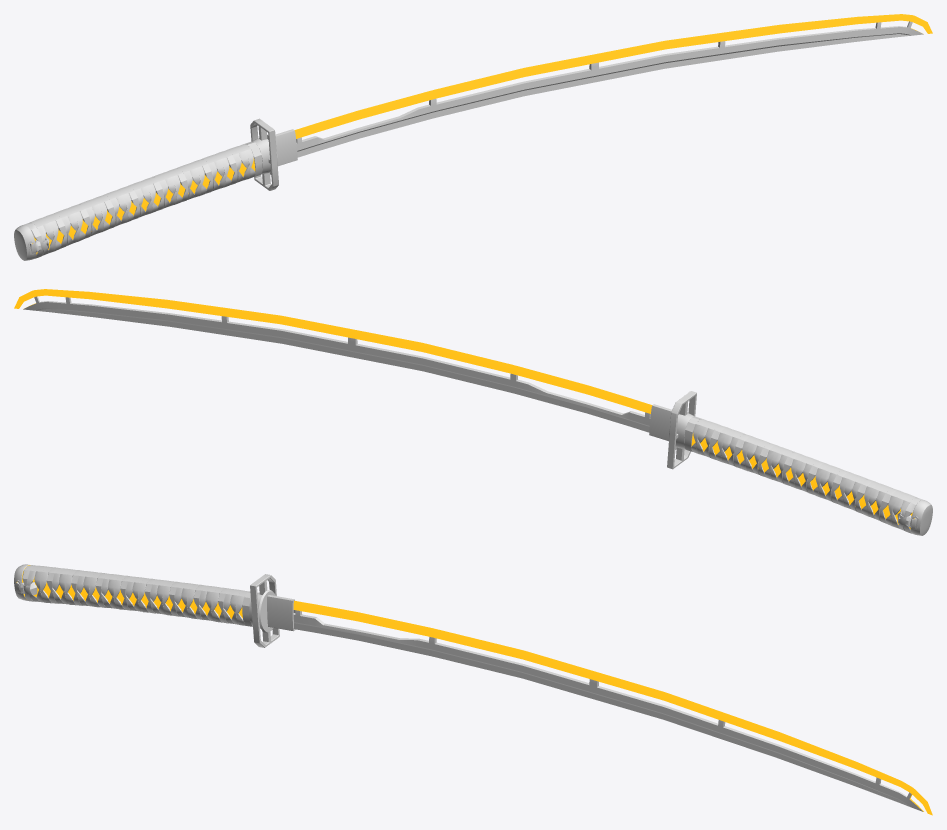
File: Katana.fbx
3 views of the same model, one above another, from view 1: azimuth 30°, elevation 25°; view 2: azimuth 150°, elevation 25°; view 3: azimuth 330°, elevation 25° (orthographic).
Parts seen in each view (by area): view 1: Plane.001; view 2: Plane.001; view 3: Plane.001.
Boxes of the visible parts, <box> form: Plane.001: <box>14,14,932,260</box>; Plane.001: <box>14,289,932,535</box>; Plane.001: <box>14,564,932,815</box>.
Bounding box in the file's own units: 72.78 × 5.96 × 2.7.
